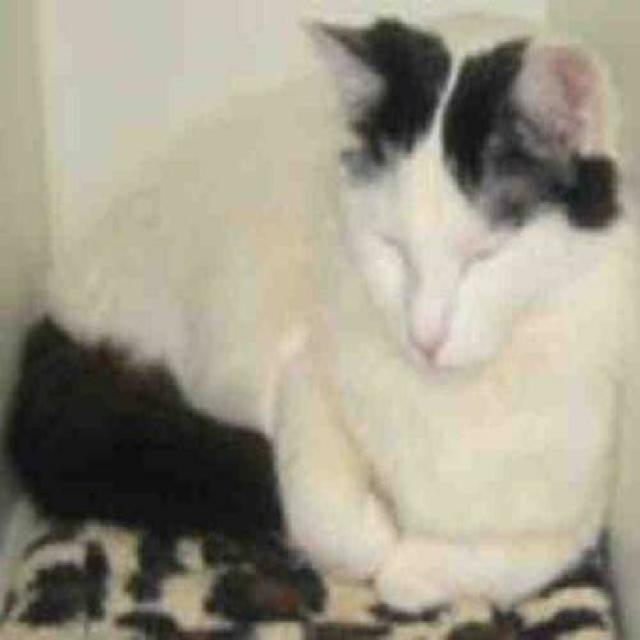cat: (5, 14, 632, 621)
